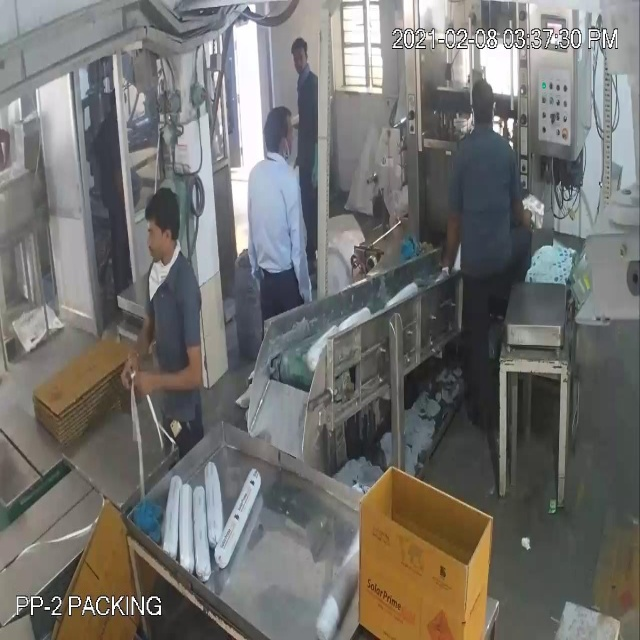Sin_guantes: (126, 350, 213, 407)
